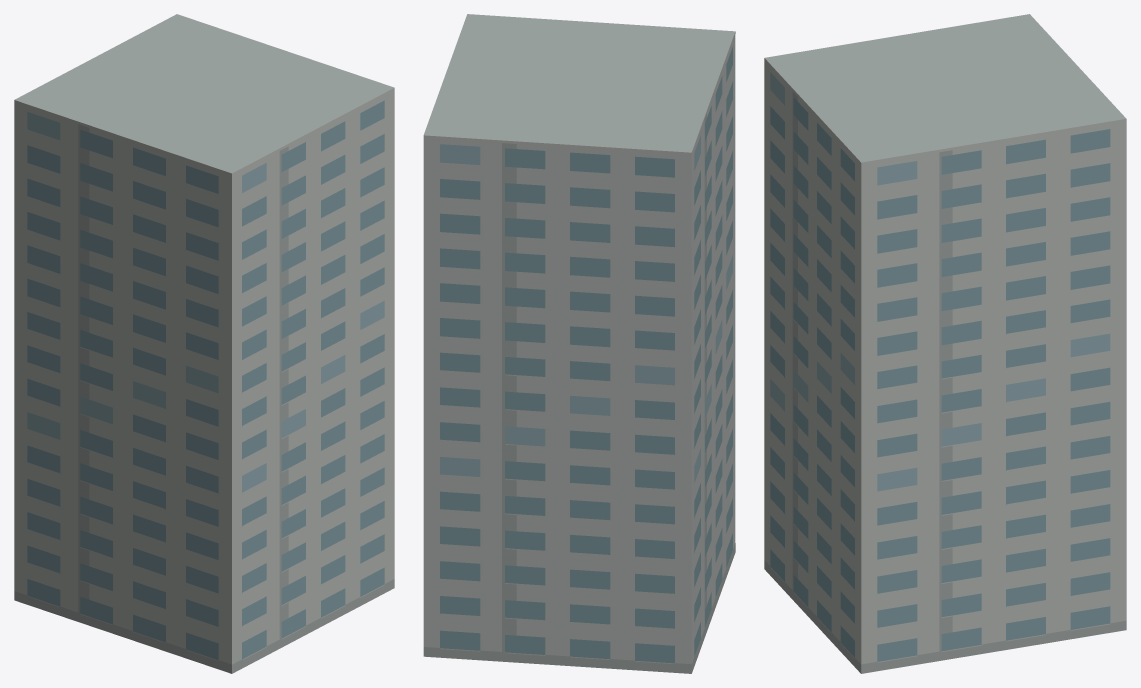
The model's file is residential-6c5fa41a-b2da-4a0e-86ca-750ebdf9fc23.glb.
3 views of the same model, side by side, from view 1: azimuth 30°, elevation 25°; view 2: azimuth 150°, elevation 25°; view 3: azimuth 270°, elevation 25° (orthographic). The views are drawn at different scales.
Parts seen in each view (by area): view 1: residential-6c5fa41a-b2da-4a0e-86ca-750ebdf9fc23.tmp; view 2: residential-6c5fa41a-b2da-4a0e-86ca-750ebdf9fc23.tmp; view 3: residential-6c5fa41a-b2da-4a0e-86ca-750ebdf9fc23.tmp.
Boxes of the visible parts, bbox=[...] form: residential-6c5fa41a-b2da-4a0e-86ca-750ebdf9fc23.tmp: bbox=[14, 14, 394, 673]; residential-6c5fa41a-b2da-4a0e-86ca-750ebdf9fc23.tmp: bbox=[423, 14, 735, 673]; residential-6c5fa41a-b2da-4a0e-86ca-750ebdf9fc23.tmp: bbox=[764, 14, 1126, 673].
Size of the model in its own units: 29.3 by 47 by 30.18.
